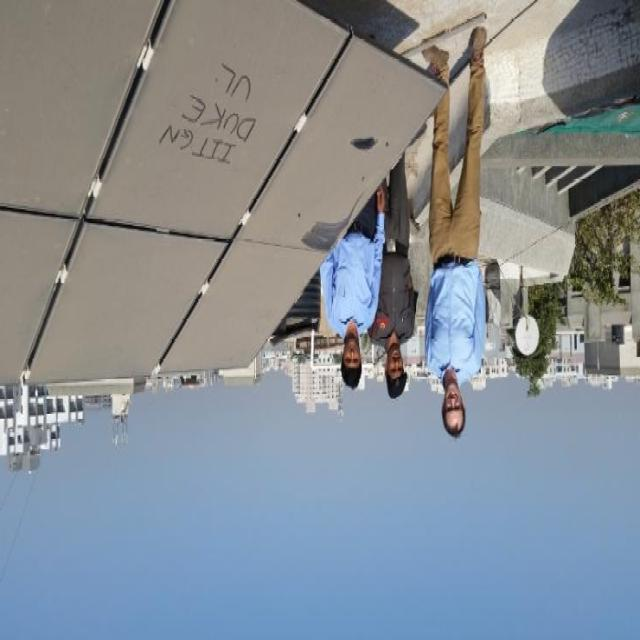soiled: (0, 6, 316, 377), (252, 16, 444, 252)
